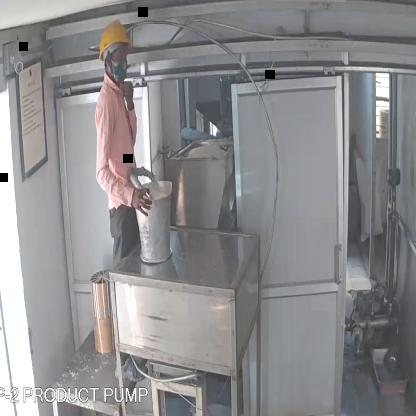helmet: (97, 19, 136, 63)
